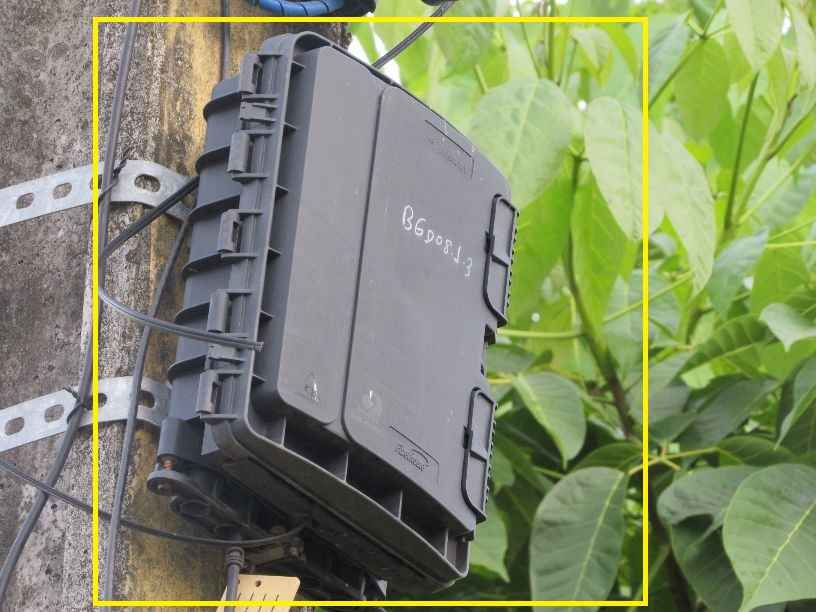caixa_derivacao: (139, 37, 546, 594)
